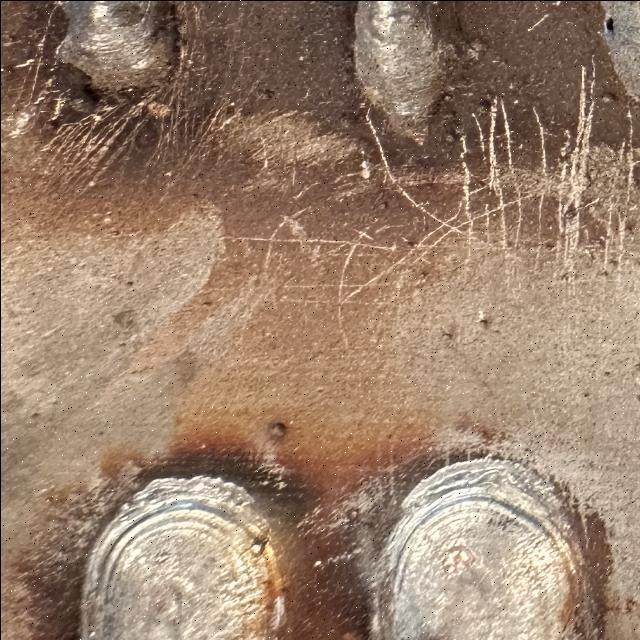Excess Reinforcement: (402, 457, 572, 542), (120, 475, 253, 524), (363, 84, 437, 144), (572, 66, 593, 158), (55, 8, 79, 68)
Spatters: (248, 537, 270, 556), (527, 12, 548, 30), (267, 422, 287, 440), (598, 91, 617, 102), (538, 241, 555, 251), (562, 206, 575, 219), (402, 237, 417, 248), (258, 89, 273, 99), (625, 598, 635, 611), (415, 270, 428, 280), (560, 272, 572, 282), (105, 229, 120, 236), (377, 201, 388, 209), (442, 92, 452, 100), (442, 331, 453, 338), (312, 559, 322, 566), (608, 258, 617, 265), (623, 226, 633, 232), (200, 301, 212, 306), (123, 280, 133, 286), (480, 319, 488, 326), (295, 24, 302, 30), (164, 170, 172, 175), (458, 168, 463, 175), (563, 38, 568, 41)
